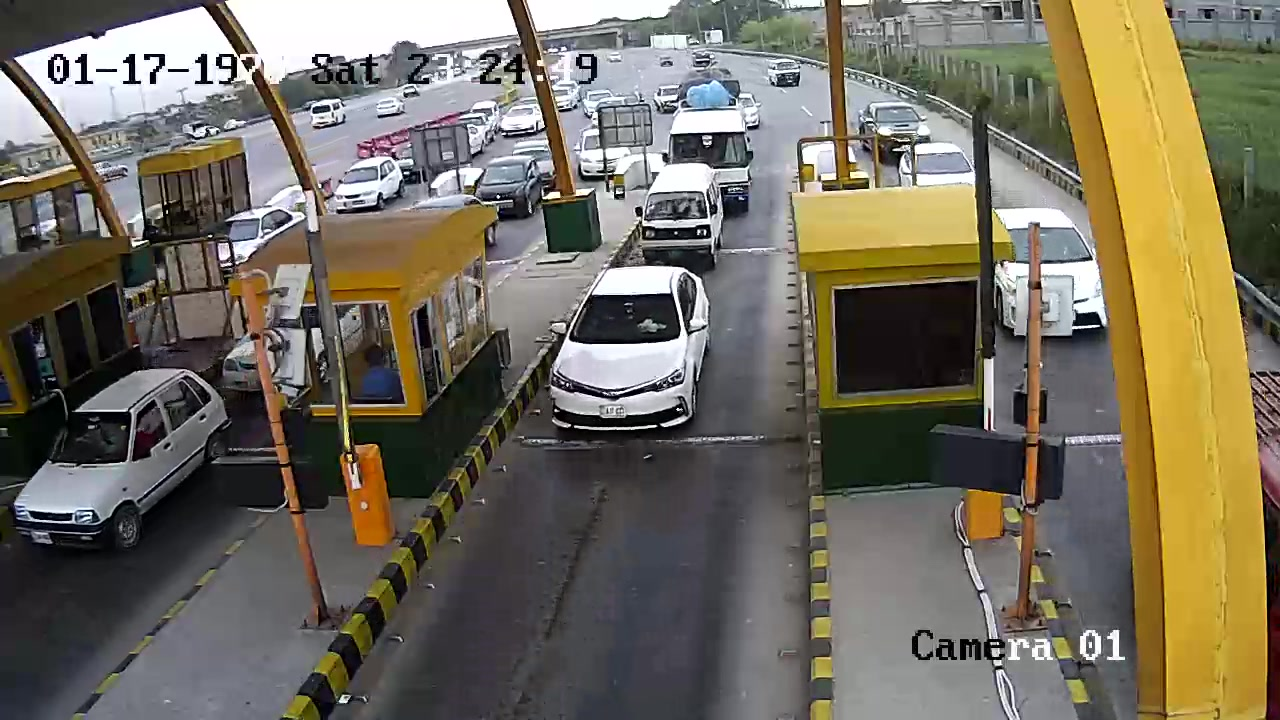F1: (545, 264, 734, 449)
